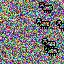sheep: (39, 2, 53, 13), (36, 18, 50, 29), (42, 38, 56, 49), (44, 45, 58, 56), (56, 20, 64, 31)
